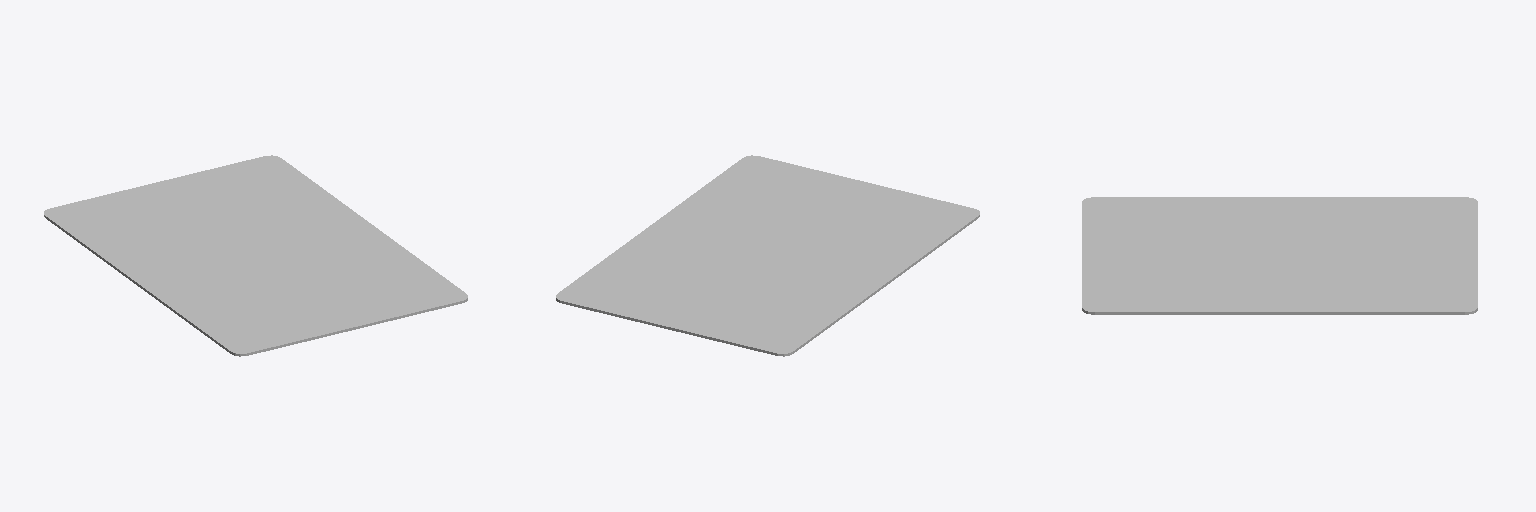
File: card.obj
3 views of the same model, side by side, from view 1: azimuth 30°, elevation 25°; view 2: azimuth 150°, elevation 25°; view 3: azimuth 270°, elevation 25° (orthographic).
Visible parts, largest first — view 1: Mesh_Mesh.002; view 2: Mesh_Mesh.002; view 3: Mesh_Mesh.002.
Part boxes in pixels (bbox=[...]): Mesh_Mesh.002: bbox=[44, 155, 467, 356]; Mesh_Mesh.002: bbox=[556, 155, 979, 356]; Mesh_Mesh.002: bbox=[1082, 197, 1477, 314].
Bounding box in the file's own units: 3.2 × 0.0331 × 4.64.